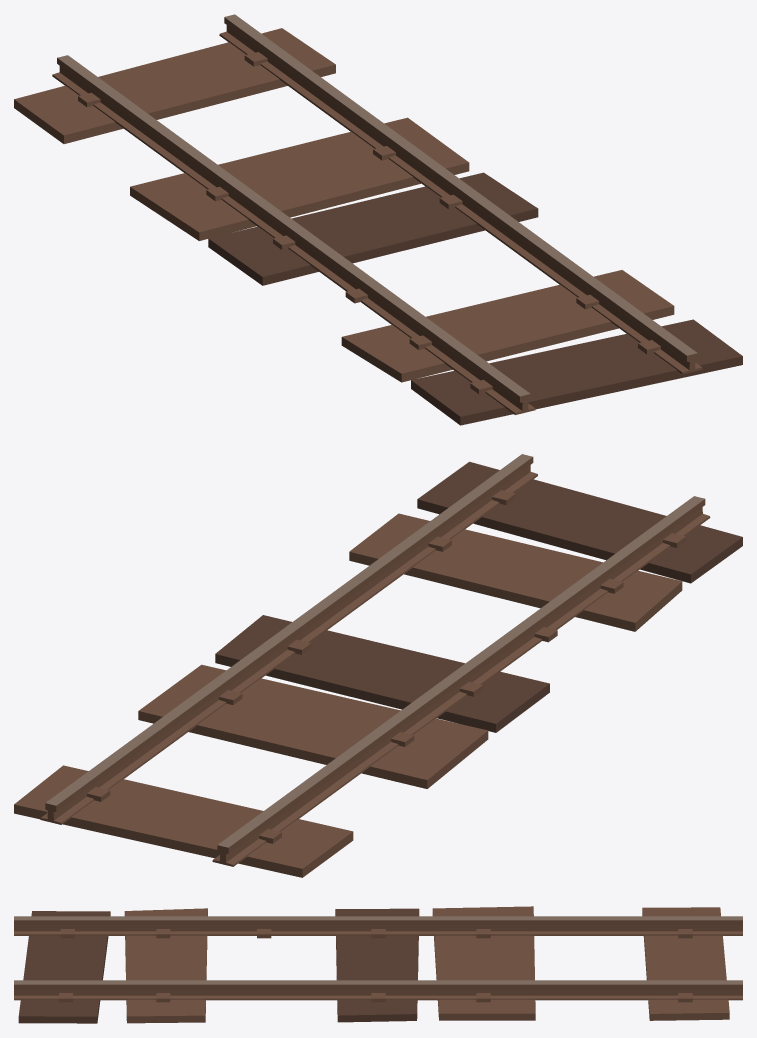
Rendered from Mines Car Track 3M V1.glb.
3 renders of one model, top to bottom at view 1: azimuth 30°, elevation 25°; view 2: azimuth 150°, elevation 25°; view 3: azimuth 270°, elevation 25°, orthographic. The views are drawn at different scales.
Visible parts, largest first — view 1: Mines Car Track 3M v1; view 2: Mines Car Track 3M v1; view 3: Mines Car Track 3M v1.
Boxes of the visible parts, x1,y1,x2,y2 form: Mines Car Track 3M v1: (14,14,742,425); Mines Car Track 3M v1: (14,454,742,877); Mines Car Track 3M v1: (14,906,742,1023).
Size of what is drawn, in the model's own units: 1.07 by 0.092 by 3.
Materials: 1 (1 with a texture image).
